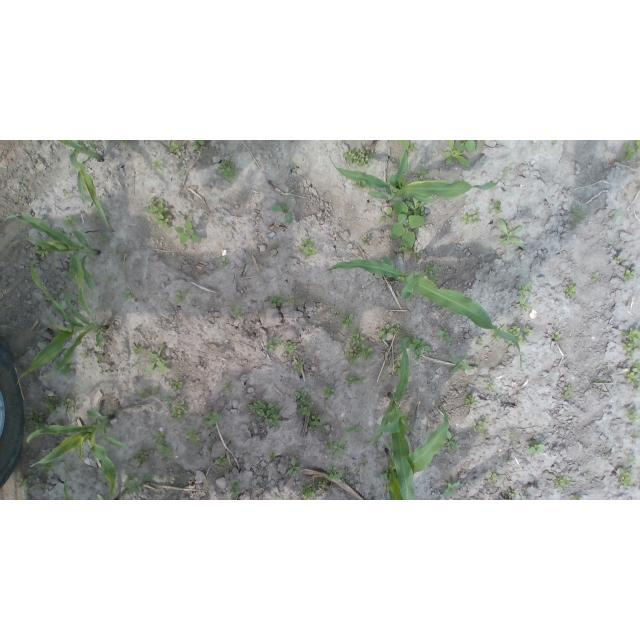Maize: (327, 259, 524, 370), (16, 260, 109, 387), (4, 205, 101, 318), (329, 146, 509, 202), (27, 407, 125, 499), (387, 404, 450, 501), (60, 140, 112, 229), (374, 344, 410, 452), (63, 475, 74, 500), (98, 495, 105, 500)
Weeds: (391, 199, 422, 253), (247, 402, 281, 431), (441, 140, 476, 166), (142, 343, 172, 373), (146, 197, 172, 231), (347, 333, 371, 364), (621, 326, 640, 361), (499, 219, 523, 246), (176, 219, 199, 247), (344, 148, 376, 168), (403, 338, 432, 358), (123, 474, 153, 493), (295, 389, 314, 415), (154, 432, 172, 459), (515, 282, 531, 312), (272, 202, 292, 223), (452, 355, 475, 372), (28, 410, 47, 430), (219, 161, 236, 183), (300, 237, 317, 259), (623, 140, 640, 162), (325, 440, 345, 458), (571, 205, 583, 232), (172, 400, 189, 418), (437, 328, 455, 345), (43, 393, 59, 412), (511, 326, 530, 342), (287, 457, 302, 477), (300, 482, 316, 500), (443, 481, 461, 497), (228, 480, 242, 500), (203, 412, 221, 427), (326, 465, 345, 479), (173, 468, 188, 485), (447, 431, 460, 450), (380, 324, 395, 340), (461, 212, 480, 224), (397, 140, 416, 152), (563, 285, 578, 300), (426, 264, 439, 281), (555, 475, 573, 487), (64, 214, 78, 229), (285, 341, 299, 356), (343, 373, 358, 387), (529, 443, 548, 454), (310, 412, 323, 428), (619, 473, 633, 487), (341, 315, 354, 330), (134, 453, 146, 469), (380, 206, 391, 223), (64, 399, 79, 411), (35, 246, 50, 258), (487, 200, 502, 212), (187, 431, 200, 444), (170, 381, 185, 392), (268, 296, 283, 307), (168, 141, 179, 155), (628, 371, 639, 385), (216, 456, 228, 468), (99, 232, 110, 245), (174, 291, 187, 302), (415, 169, 428, 180), (18, 475, 29, 487), (625, 269, 636, 281), (323, 386, 335, 397), (474, 421, 486, 432), (381, 470, 391, 483), (345, 426, 361, 434), (131, 342, 140, 356), (317, 479, 329, 489), (154, 160, 164, 172), (192, 141, 204, 151), (565, 385, 573, 400), (630, 409, 639, 422), (355, 181, 369, 189), (140, 391, 151, 401), (465, 394, 475, 405), (629, 456, 640, 466), (96, 354, 108, 363), (487, 475, 500, 483), (294, 361, 304, 371), (285, 295, 296, 304), (223, 382, 231, 394), (42, 464, 55, 471), (268, 341, 277, 351), (67, 466, 78, 474), (632, 359, 640, 370), (486, 382, 497, 390), (507, 491, 516, 500), (62, 365, 73, 372), (553, 332, 561, 341), (269, 452, 277, 460), (152, 386, 160, 394), (363, 234, 371, 242), (164, 397, 173, 404), (33, 483, 40, 492), (476, 337, 483, 346), (125, 291, 132, 299), (594, 273, 602, 280), (509, 434, 517, 441), (573, 493, 580, 500), (482, 416, 489, 423), (222, 259, 230, 265), (62, 189, 68, 197), (414, 253, 422, 259), (551, 141, 559, 146), (236, 311, 242, 317), (121, 140, 128, 145), (616, 257, 621, 262)
